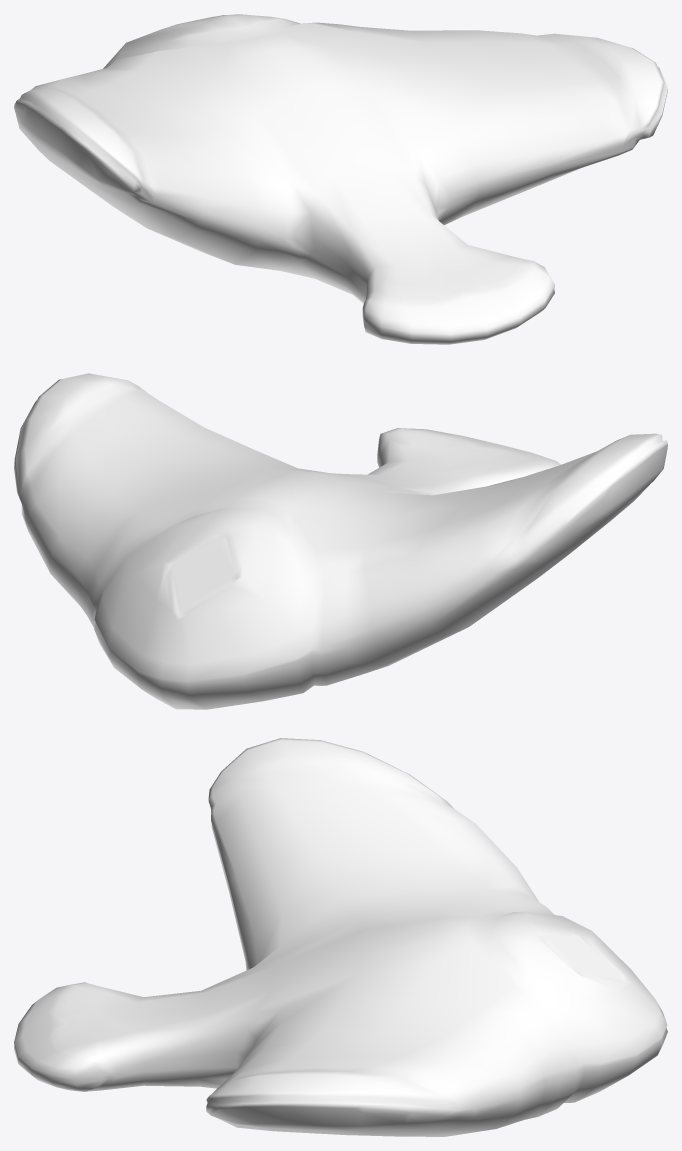
Rendered from CharSkyKid_Prop_AP17Manta.glb.
The picture shows the model from 3 angles, top to bottom: view 1: azimuth 30°, elevation 25°; view 2: azimuth 150°, elevation 25°; view 3: azimuth 270°, elevation 25°; orthographic projection. The views are drawn at different scales.
Visible parts, largest first — view 1: CharSkyKid_Prop_AP17Manta; view 2: CharSkyKid_Prop_AP17Manta; view 3: CharSkyKid_Prop_AP17Manta.
Boxes of the visible parts, box(x1,y1,x2,y2) form: CharSkyKid_Prop_AP17Manta: box(14, 14, 667, 344); CharSkyKid_Prop_AP17Manta: box(14, 373, 667, 709); CharSkyKid_Prop_AP17Manta: box(14, 738, 667, 1136).
Size of the model in its own units: 4.99 by 1.78 by 4.9.
1 material, 1 textured.
